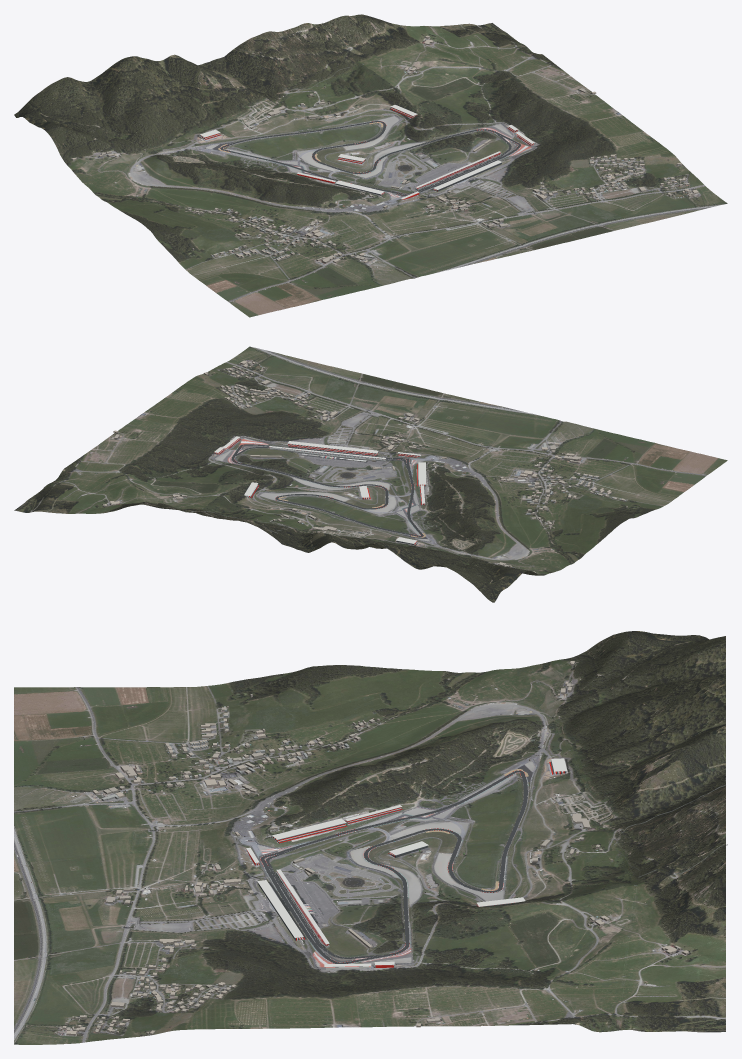
Rendered from red-bull-ring.glb.
3 views of the same model, one above another, from view 1: azimuth 30°, elevation 25°; view 2: azimuth 150°, elevation 25°; view 3: azimuth 270°, elevation 25° (orthographic). The views are drawn at different scales.
Visible parts, largest first — view 1: Styria_DTM_Terrain_RealScale, RedBullRing_Current_OSM_DSM_Buildings, RedBullRing_2026_Current_Grandstands, FIA_Red_Bull_Ring_Centreline_12_5m, RedBullRing_OSM_Safety_Fences_And_Walls, RedBullRing_2026_32_Garage_Pit_Complex; view 2: Styria_DTM_Terrain_RealScale, RedBullRing_Current_OSM_DSM_Buildings, RedBullRing_2026_Current_Grandstands, FIA_Red_Bull_Ring_Centreline_12_5m, RedBullRing_OSM_Safety_Fences_And_Walls, RedBullRing_2026_32_Garage_Pit_Complex; view 3: Styria_DTM_Terrain_RealScale, RedBullRing_Current_OSM_DSM_Buildings, RedBullRing_2026_Current_Grandstands, FIA_Red_Bull_Ring_Centreline_12_5m, RedBullRing_OSM_Safety_Fences_And_Walls, RedBullRing_2026_32_Garage_Pit_Complex.
Boxes of the visible parts, x1,y1,x2,y2 form: Styria_DTM_Terrain_RealScale: (14,14,727,317); RedBullRing_Current_OSM_DSM_Buildings: (72,35,698,263); RedBullRing_2026_Current_Grandstands: (200,105,534,199); FIA_Red_Bull_Ring_Centreline_12_5m: (220,121,521,196); RedBullRing_OSM_Safety_Fences_And_Walls: (203,26,533,204); RedBullRing_2026_32_Garage_Pit_Complex: (415,151,501,190); Styria_DTM_Terrain_RealScale: (14,346,727,602); RedBullRing_Current_OSM_DSM_Buildings: (103,360,627,572); RedBullRing_2026_Current_Grandstands: (214,436,426,544); FIA_Red_Bull_Ring_Centreline_12_5m: (231,444,423,536); RedBullRing_OSM_Safety_Fences_And_Walls: (183,437,434,541); RedBullRing_2026_32_Garage_Pit_Complex: (269,446,386,461); Styria_DTM_Terrain_RealScale: (14,631,725,1044); RedBullRing_Current_OSM_DSM_Buildings: (60,661,689,1035); RedBullRing_2026_Current_Grandstands: (246,758,567,969); FIA_Red_Bull_Ring_Centreline_12_5m: (260,770,527,963); RedBullRing_OSM_Safety_Fences_And_Walls: (241,759,727,967); RedBullRing_2026_32_Garage_Pit_Complex: (276,869,329,948).
Bounding box in the file's own units: 2519 × 317 × 2146.
24 materials, 1 textured.
